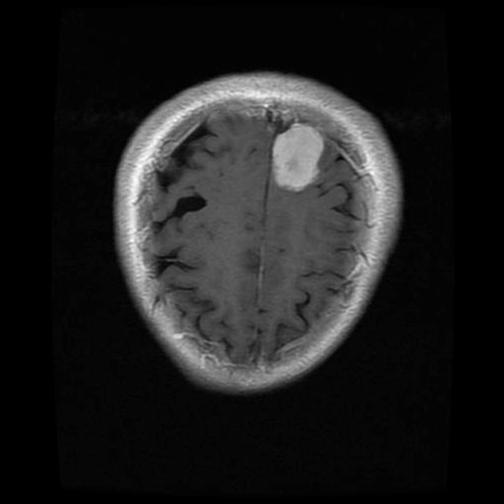Tumour-Meningioma: (265, 106, 336, 211)
